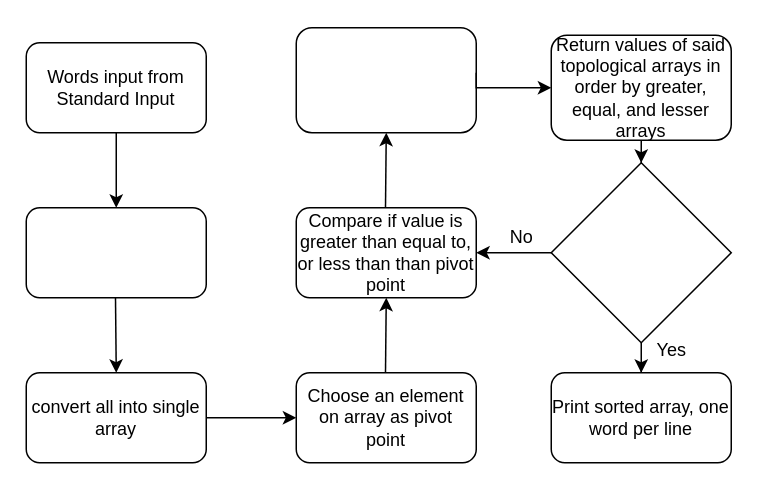
The diagram is 758 pixels wide and 489 high, and some of its shapes have lost their labels. Each missing label, with the box of its shape:
Are all values in array in correct order?: (550, 161, 731, 343)
Make all words within Input lowercase: (25, 206, 206, 298)
Push value into corresponding empty array "greater", "equal", or "less": (295, 26, 476, 133)
